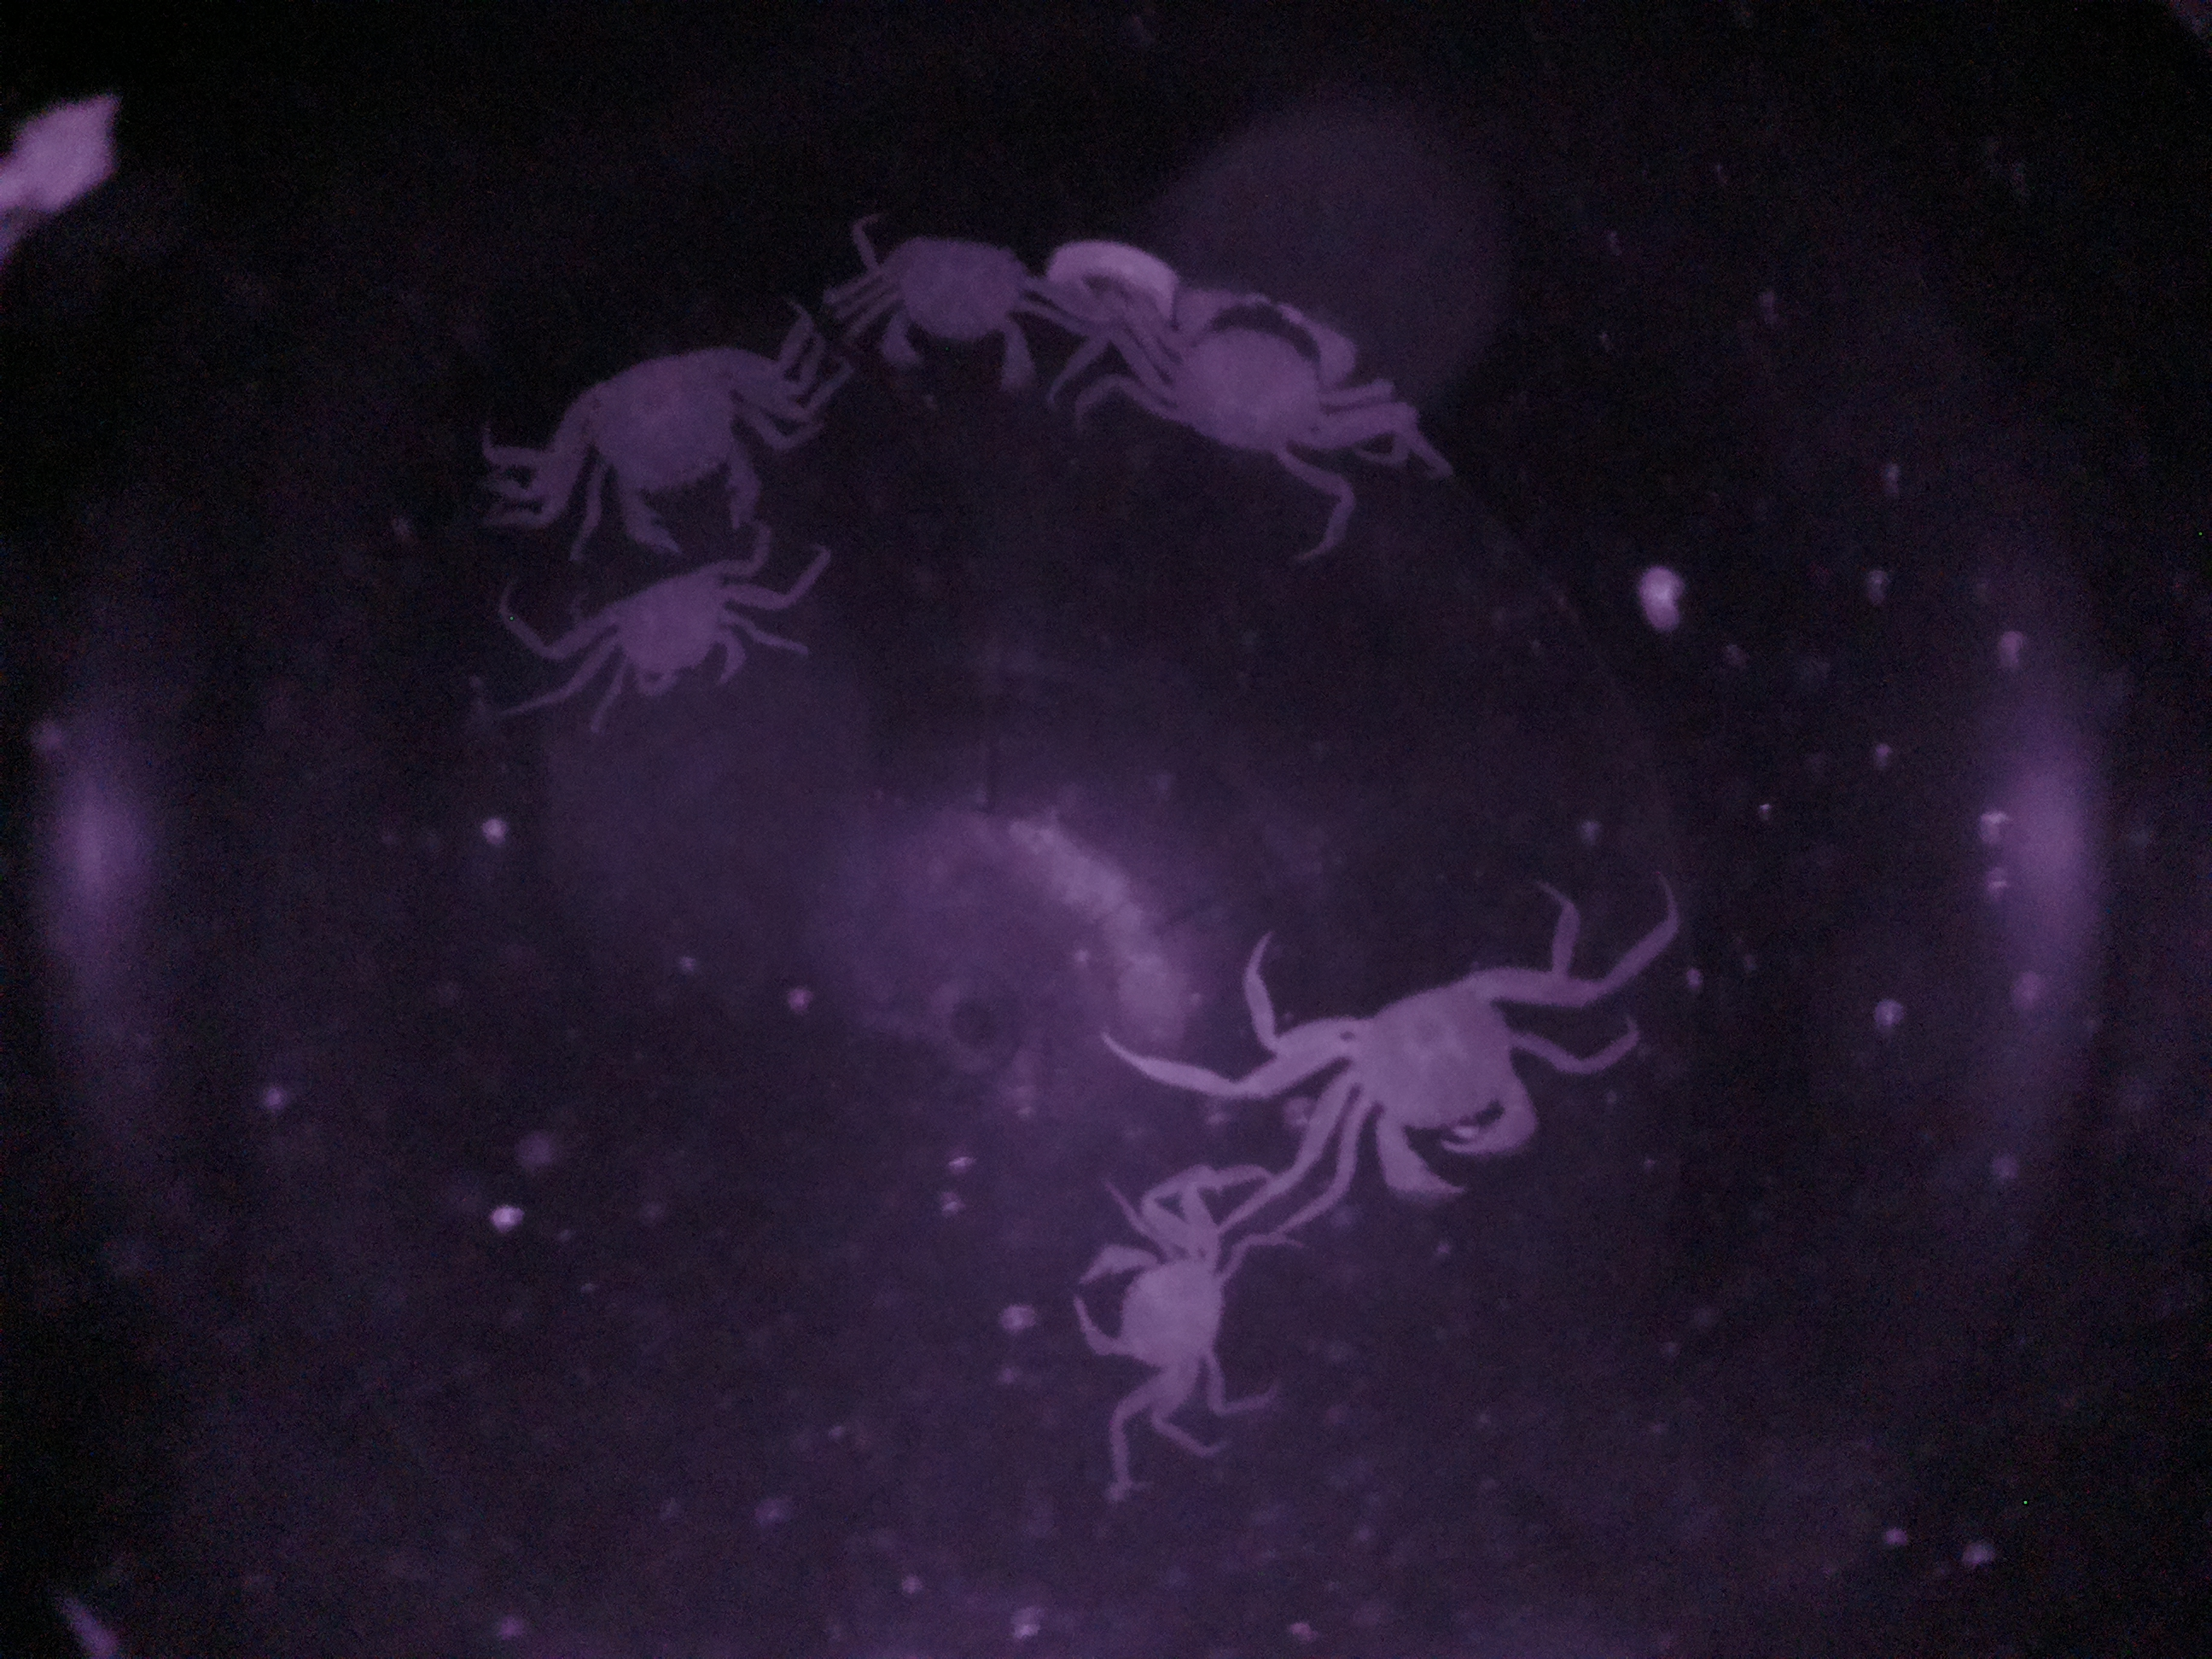Crab: (1299, 953, 1562, 1206), (1134, 275, 1383, 490), (561, 331, 766, 549), (866, 221, 1062, 404), (1068, 1216, 1247, 1398), (582, 558, 773, 711)
